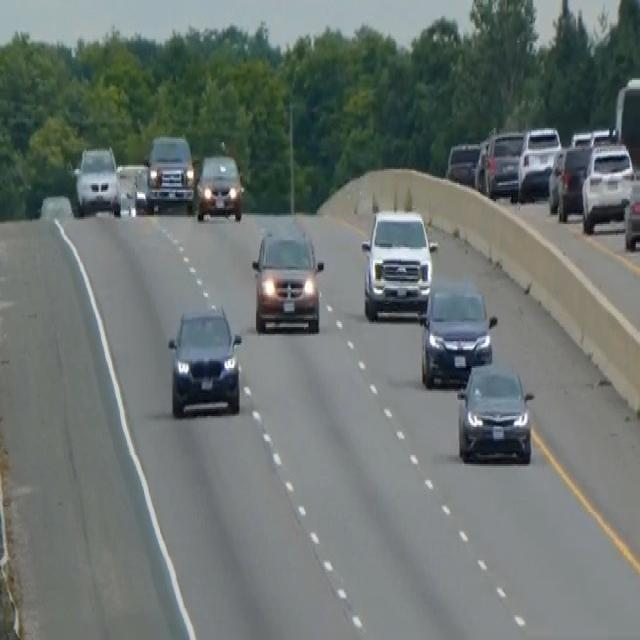bus: (613, 73, 639, 178)
car: (166, 302, 242, 418), (417, 278, 496, 388), (455, 359, 533, 464), (580, 139, 634, 233), (72, 142, 121, 217), (195, 151, 244, 222), (517, 123, 561, 201), (548, 142, 591, 220), (482, 128, 524, 201), (445, 139, 481, 185), (623, 170, 639, 250), (131, 166, 151, 213)
jeep: (360, 204, 437, 322)
minivan: (250, 222, 325, 336), (142, 132, 196, 214)
